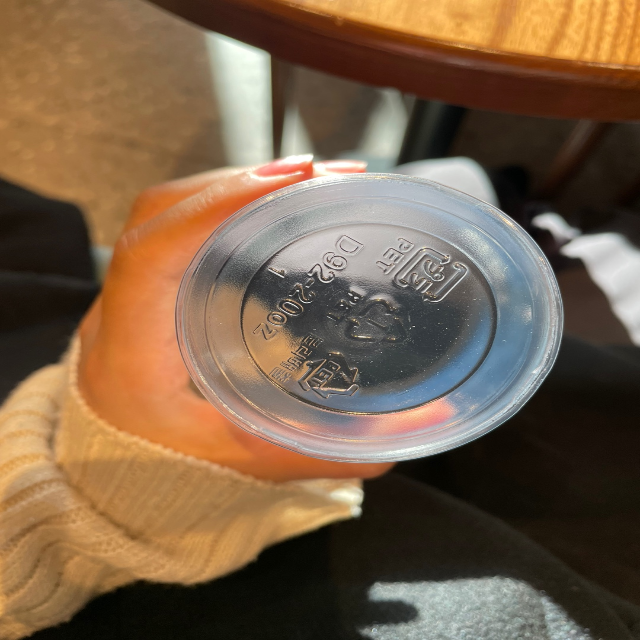pet: (266, 329, 362, 400), (373, 232, 467, 304), (325, 289, 416, 346)
